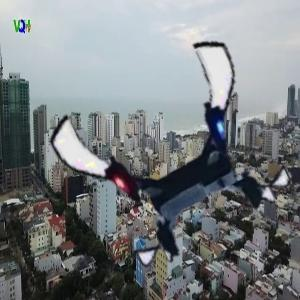drone: (67, 54, 274, 261)
